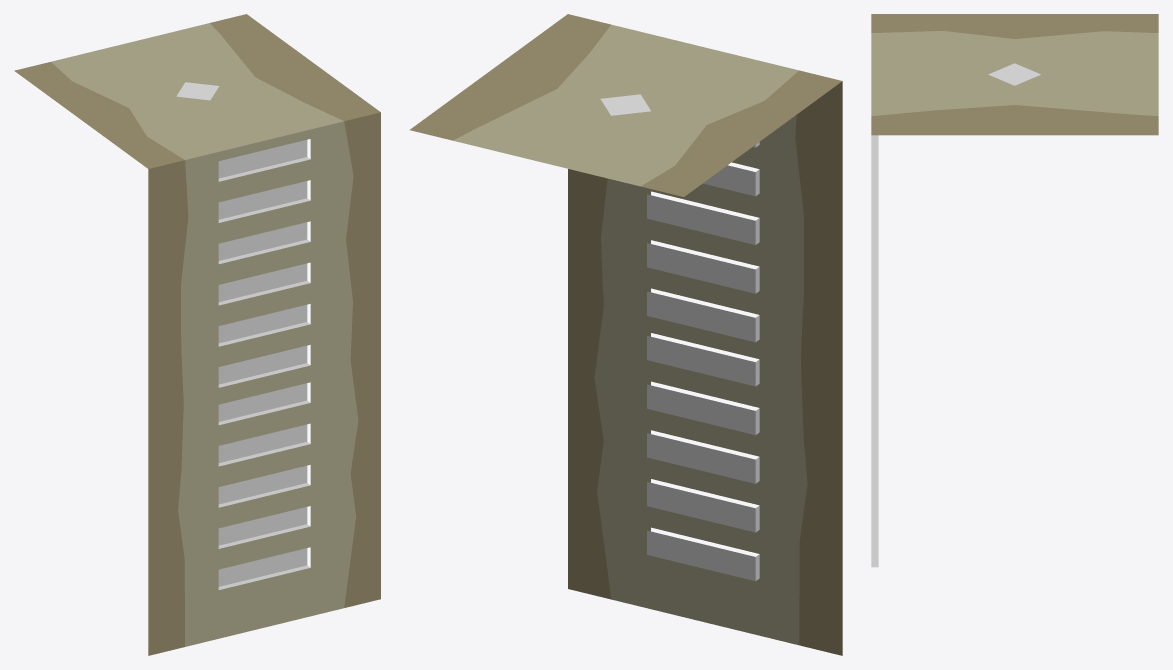
The model's file is 90L Right Straight.fbx.
The picture shows the model from 3 angles, left to right: view 1: azimuth 30°, elevation 25°; view 2: azimuth 150°, elevation 25°; view 3: azimuth 270°, elevation 25°; orthographic projection. The views are drawn at different scales.
Parts seen in each view (by area): view 1: polySurface7491; view 2: polySurface7491; view 3: polySurface7491.
Boxes of the visible parts, x1,y1,x2,y2 form: polySurface7491: (14, 14, 380, 655); polySurface7491: (410, 14, 842, 655); polySurface7491: (871, 14, 1158, 567).
Size of the model in its own units: 100 by 200 by 100.
